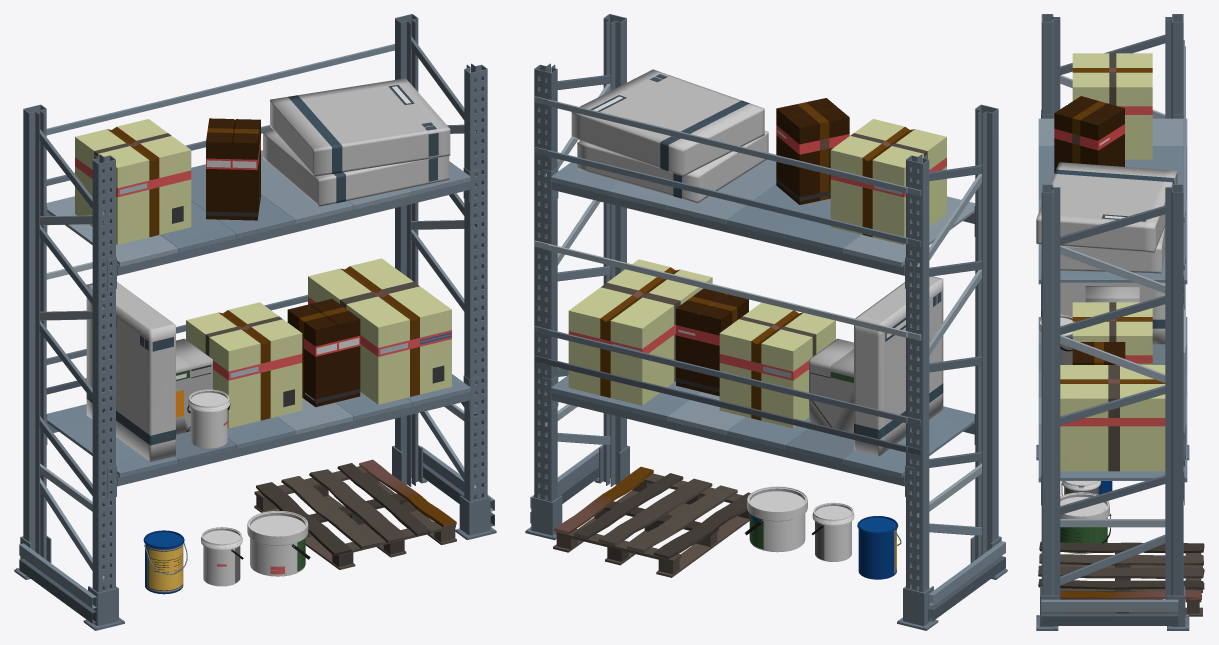
The model's file is SM_Aisle_White_B.fbx.
3 renders of one model, left to right at view 1: azimuth 30°, elevation 25°; view 2: azimuth 150°, elevation 25°; view 3: azimuth 270°, elevation 25°, orthographic. The views are drawn at different scales.
Visible parts, largest first — view 1: SM_Aisle_White_B; view 2: SM_Aisle_White_B; view 3: SM_Aisle_White_B.
Part boxes in pixels (x1=…): SM_Aisle_White_B: x1=14, y1=14, x2=496, y2=630; SM_Aisle_White_B: x1=525, y1=14, x2=1007, y2=630; SM_Aisle_White_B: x1=1036, y1=14, x2=1204, y2=630.
Bounding box in the file's own units: 336 × 371 × 130.
